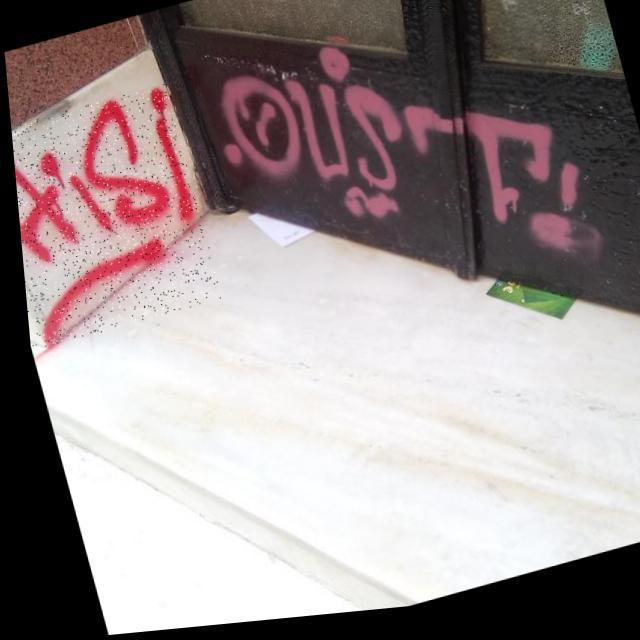-: (195, 0, 600, 346), (7, 83, 218, 351)
